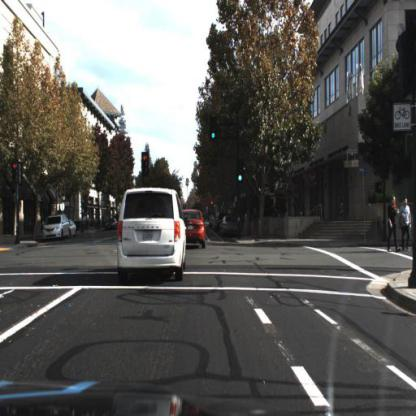car: (111, 181, 190, 288), (172, 198, 209, 265), (41, 213, 71, 238), (220, 217, 241, 239), (104, 216, 118, 234), (69, 218, 79, 239)
pedestrian: (387, 195, 402, 256), (400, 196, 413, 253)
trafficLight: (238, 158, 245, 185)
trafficLight-Green: (209, 115, 218, 143)
trafficLight-RedLeft: (142, 152, 151, 177)
